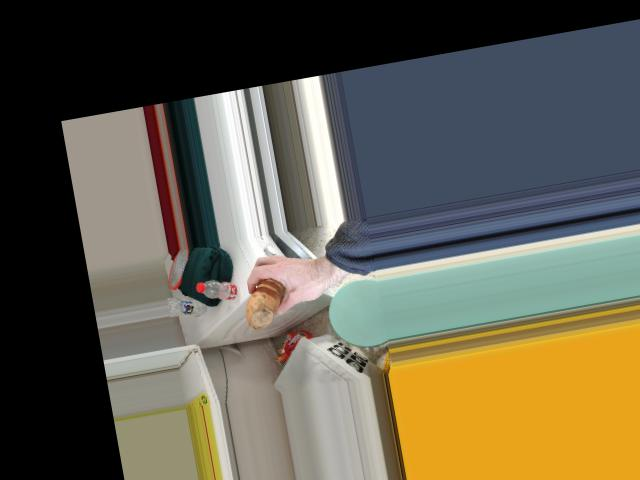sweet_potato: (238, 279, 290, 330)
